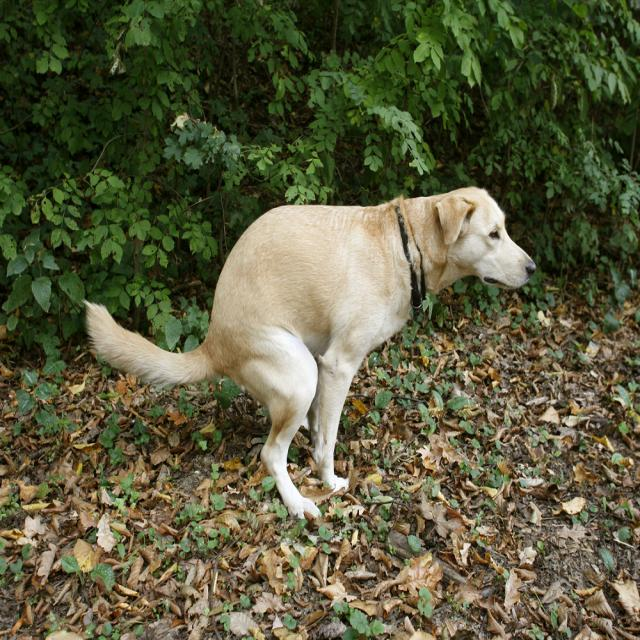Dogpoop: (80, 185, 540, 516)
